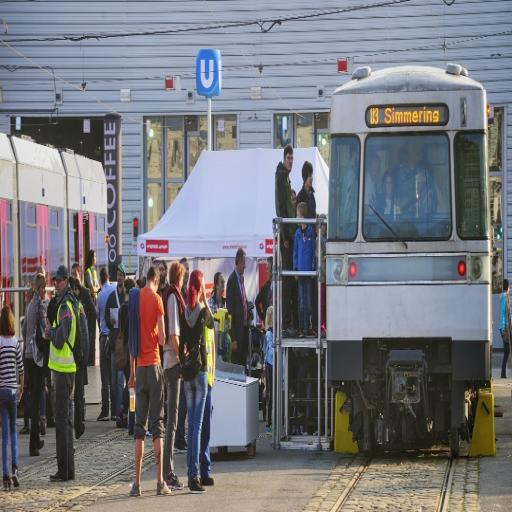Silberpfeil: (323, 57, 493, 408)
